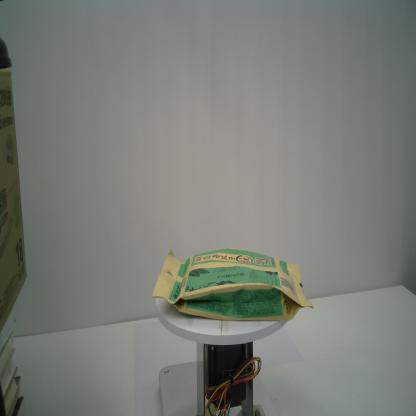Dried Food: (151, 248, 315, 322)
